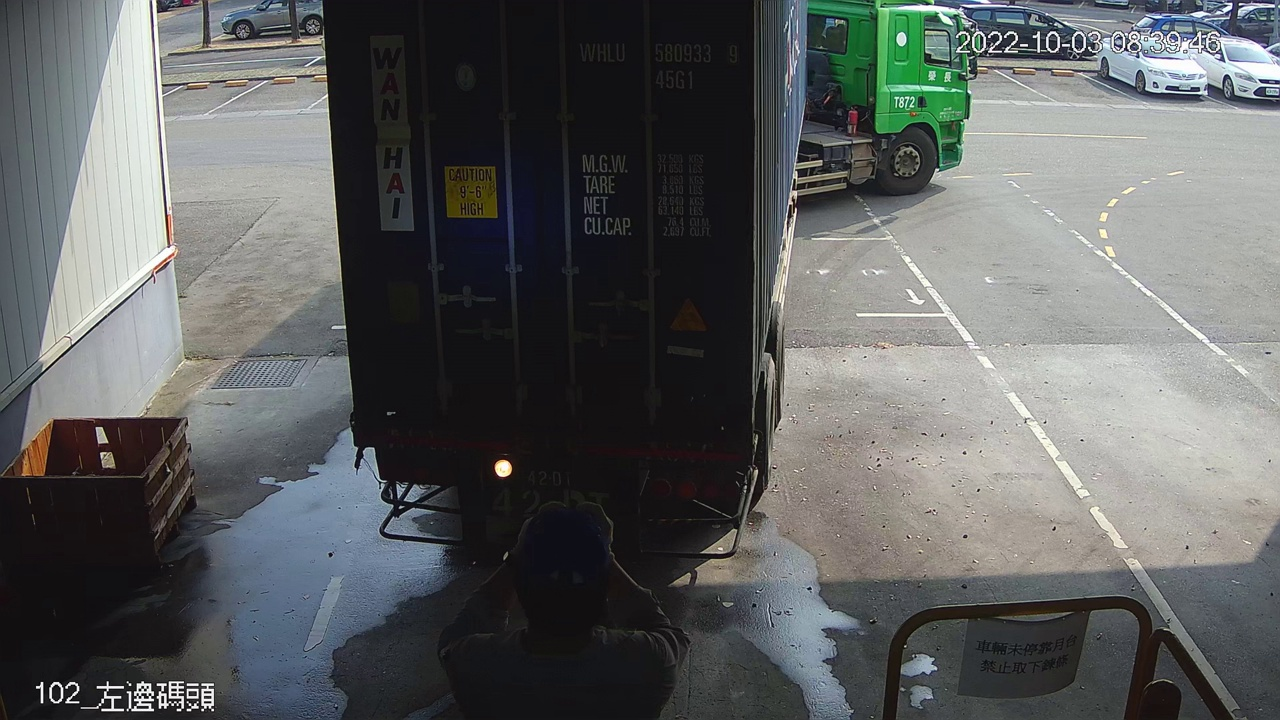container: (571, 36, 748, 96)
